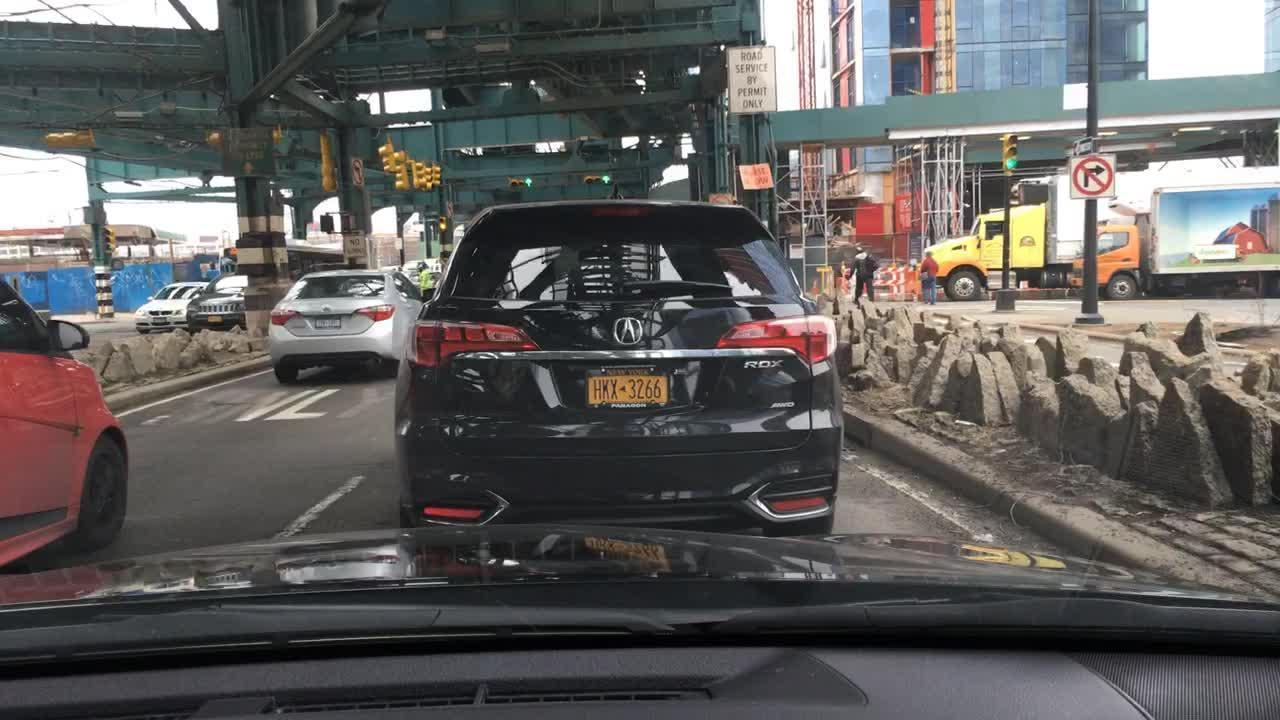acura: (610, 313, 647, 350)
